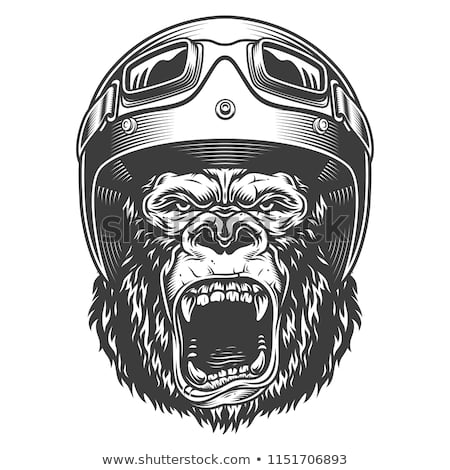with_helmet: (71, 15, 385, 280)
